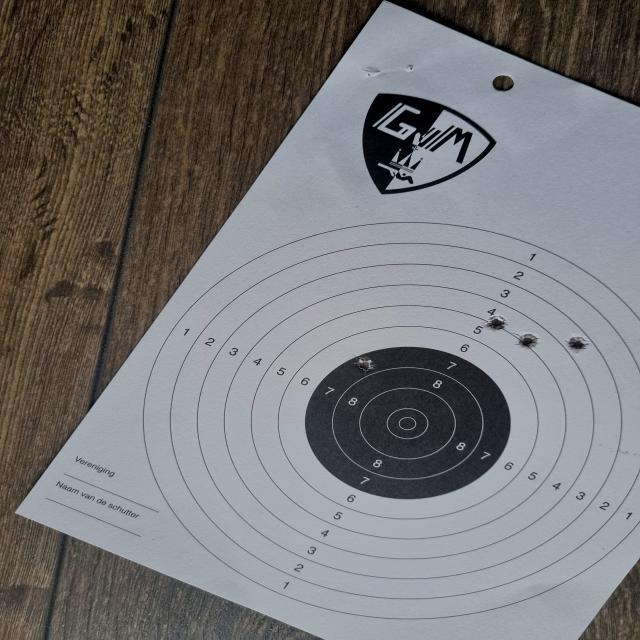3: (564, 336, 590, 353)
5: (514, 333, 540, 349), (480, 316, 508, 330)
7: (353, 357, 376, 372)
Target: (141, 220, 640, 622)
black_contour: (304, 344, 512, 502)
